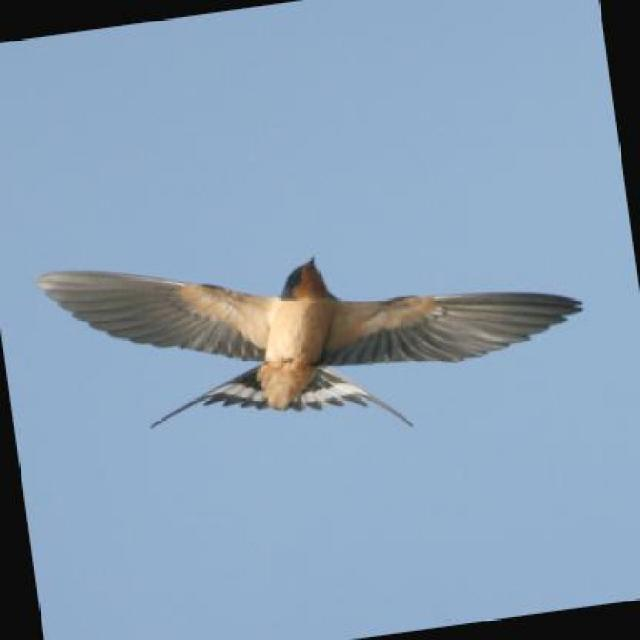Bird: (44, 224, 590, 447)
